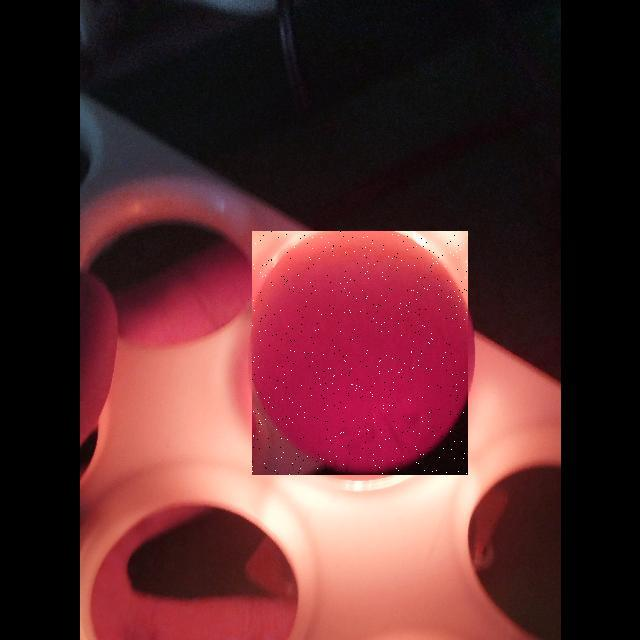Fertile: (252, 231, 468, 475)
